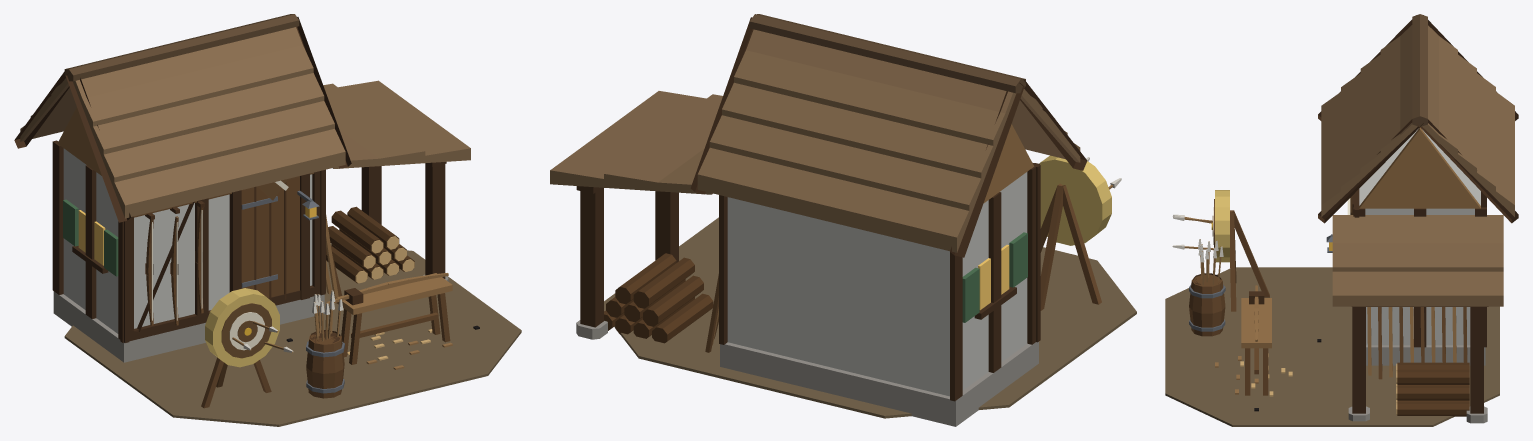
The model's file is bowyer.obj.
3 renders of one model, left to right at view 1: azimuth 30°, elevation 25°; view 2: azimuth 150°, elevation 25°; view 3: azimuth 270°, elevation 25°, orthographic. The views are drawn at different scales.
Visible parts, largest first — view 1: Roof, Ground, Walls, Timber.Post, Lean.Roof, Door, Plinth, Roof.Ridge, Lean.Post, Billet, Target, Gable.Barge (+20 smaller); view 2: Roof, Walls, Ground, Lean.Roof, Plinth, Timber.Post, Billet, Lean.Post, Roof.Ridge, Target, Gable.Barge, Target.Leg (+3 smaller); view 3: Ground, Roof, Lean.Roof, Gable, Walls, Billet, Lean.Post, Stave, Gable.Barge, Roof.Ridge, Barrel, Plinth (+9 smaller).
Part boxes in pixels (bbox=[...]): Roof: bbox=[20, 27, 345, 218]; Ground: bbox=[64, 243, 521, 426]; Walls: bbox=[63, 148, 312, 333]; Timber.Post: bbox=[52, 140, 325, 342]; Lean.Roof: bbox=[323, 80, 470, 168]; Door: bbox=[241, 177, 299, 297]; Plinth: bbox=[53, 291, 324, 362]; Roof.Ridge: bbox=[64, 14, 299, 81]; Lean.Post: bbox=[361, 163, 445, 278]; Billet: bbox=[326, 206, 414, 283]; Target: bbox=[205, 288, 279, 367]; Gable.Barge: bbox=[14, 17, 351, 222]; Roof: bbox=[697, 29, 1080, 252]; Walls: bbox=[727, 172, 1027, 396]; Ground: bbox=[604, 217, 1136, 418]; Lean.Roof: bbox=[550, 91, 722, 194]; Plinth: bbox=[720, 342, 1038, 426]; Timber.Post: bbox=[719, 163, 1040, 401]; Billet: bbox=[604, 253, 713, 343]; Lean.Post: bbox=[580, 187, 678, 327]; Roof.Ridge: bbox=[749, 14, 1025, 93]; Target: bbox=[1039, 155, 1111, 245]; Gable.Barge: bbox=[690, 14, 1087, 257]; Target.Leg: bbox=[1040, 183, 1101, 310]; Ground: bbox=[1165, 267, 1499, 426]; Roof: bbox=[1321, 25, 1514, 216]; Lean.Roof: bbox=[1332, 215, 1503, 306]; Gable: bbox=[1359, 127, 1480, 208]; Walls: bbox=[1359, 128, 1480, 345]; Billet: bbox=[1397, 362, 1469, 416]; Lean.Post: bbox=[1352, 307, 1483, 413]; Stave: bbox=[1367, 307, 1467, 379]; Gable.Barge: bbox=[1318, 15, 1518, 223]; Roof.Ridge: bbox=[1412, 14, 1427, 126]; Barrel: bbox=[1189, 274, 1225, 336]; Plinth: bbox=[1366, 345, 1485, 365].
Bounding box in the file's own units: 5.01 × 3.7 × 4.64.
